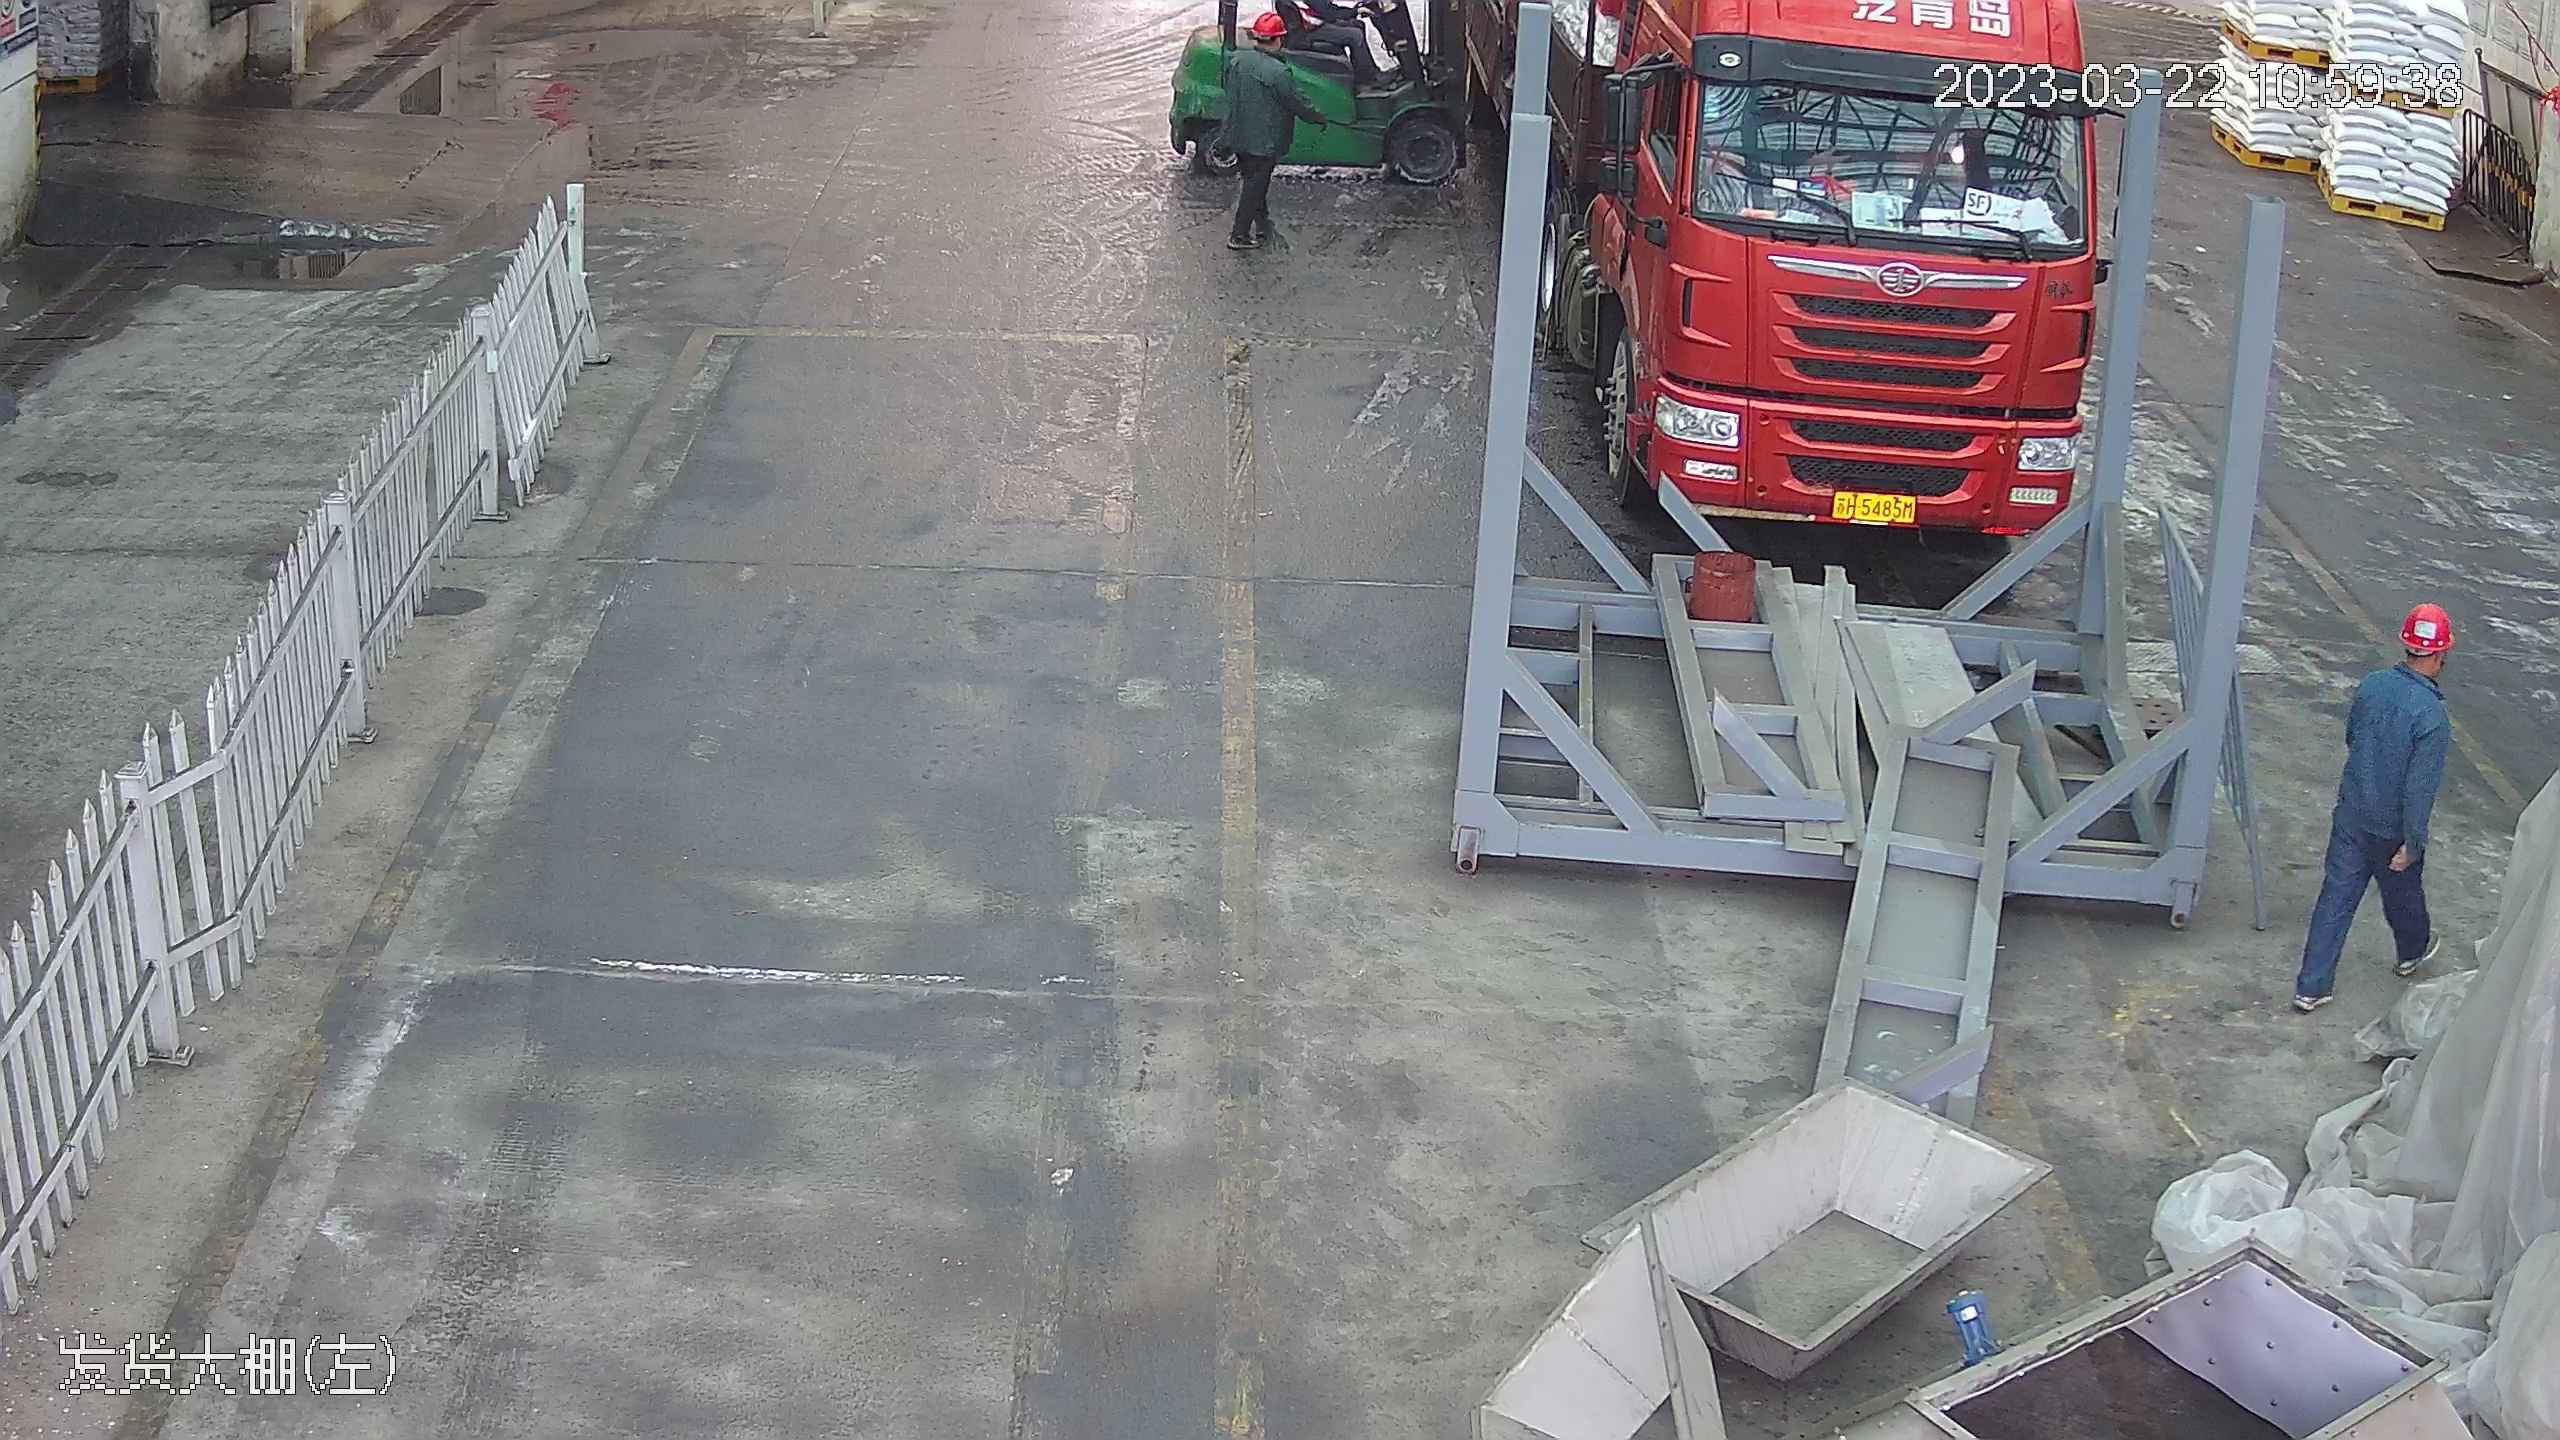head: (2348, 597, 2454, 739), (1226, 8, 1295, 84)
helmet: (2396, 599, 2454, 652), (1246, 7, 1285, 37)
people: (2287, 595, 2456, 1009), (1213, 6, 1300, 256)
truck: (1539, 0, 2115, 539)
